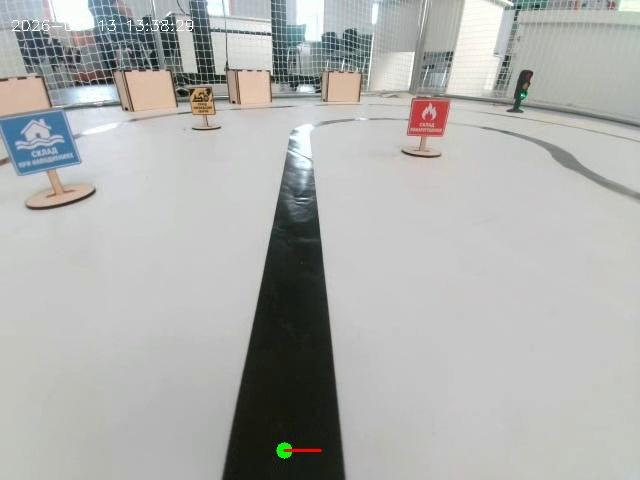fire: (397, 96, 452, 174)
flood: (3, 104, 102, 238)
industrial: (186, 77, 216, 148)
